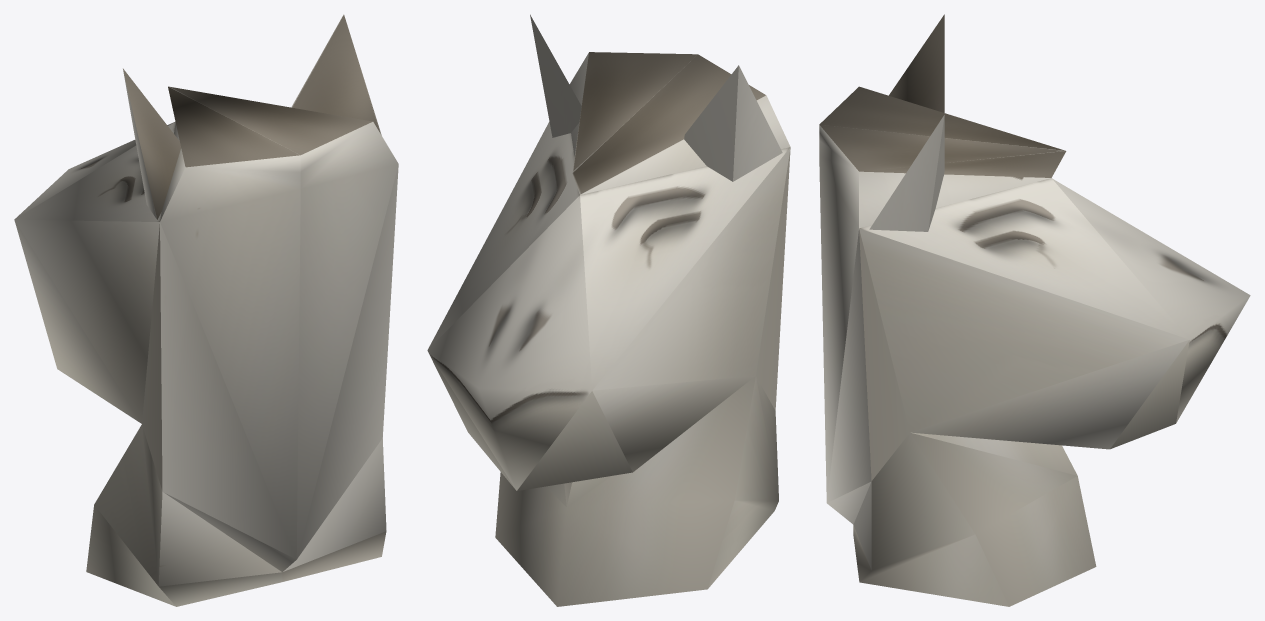
File: white horse.glb
3 renders of one model, left to right at view 1: azimuth 30°, elevation 25°; view 2: azimuth 150°, elevation 25°; view 3: azimuth 270°, elevation 25°, orthographic. The views are drawn at different scales.
Visible parts, largest first — view 1: whiteknight; view 2: whiteknight; view 3: whiteknight.
Part boxes in pixels (x1,y1,x2,y2): whiteknight: [14, 14, 398, 606]; whiteknight: [427, 14, 790, 606]; whiteknight: [819, 14, 1250, 606].
Bounding box in the file's own units: 0.6877 × 1.45 × 1.13.
1 material, 1 textured.
